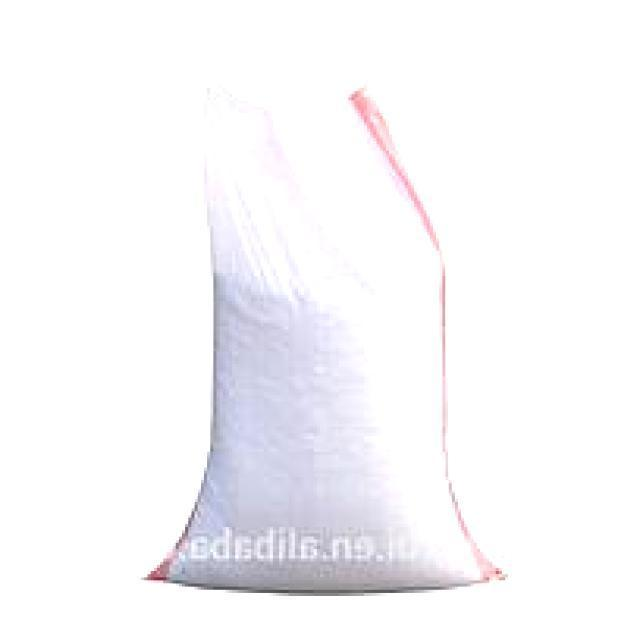gunny_bag: (155, 75, 507, 599)
